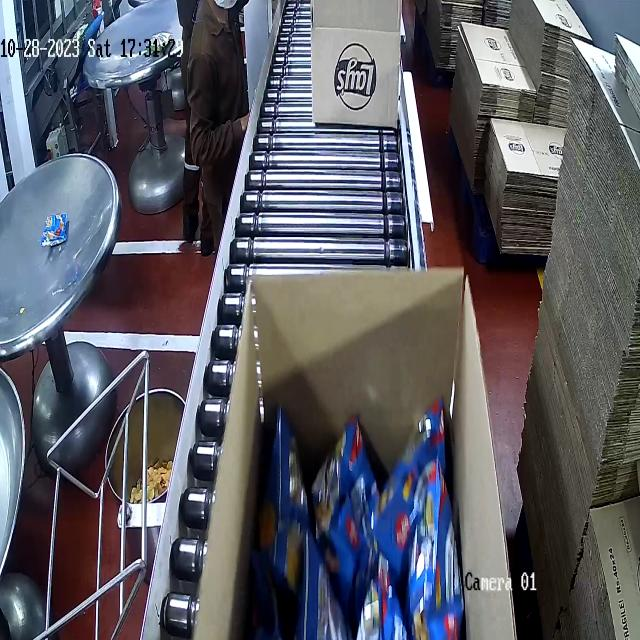PAPRIKA: (270, 408, 440, 640)
